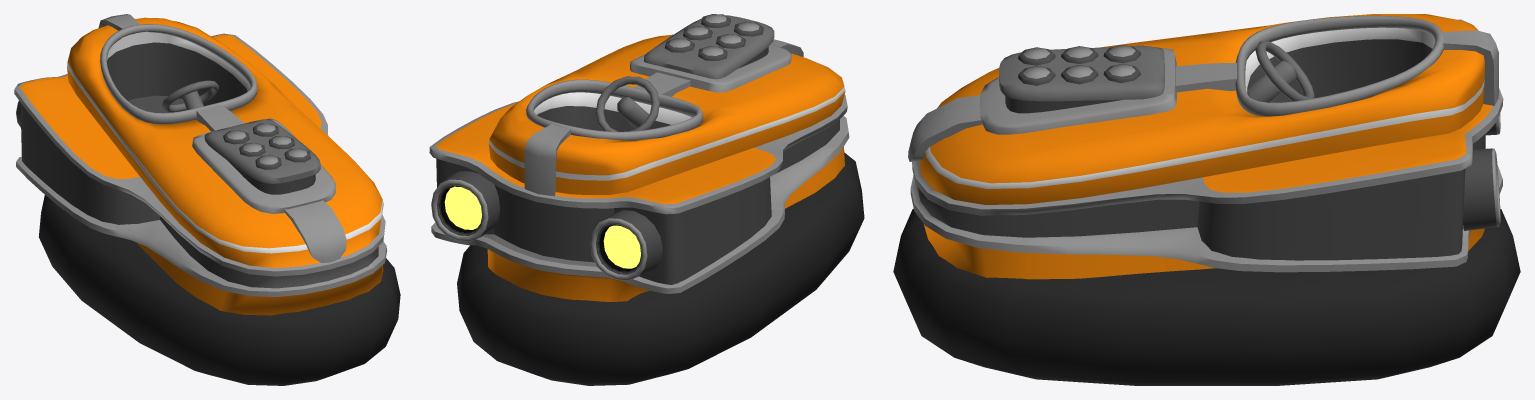
File: mesh_Car_InGame_P.fbx
3 views of the same model, side by side, from view 1: azimuth 30°, elevation 25°; view 2: azimuth 150°, elevation 25°; view 3: azimuth 270°, elevation 25° (orthographic). The views are drawn at different scales.
Visible parts, largest first — view 1: mesh_Car_InGame_P; view 2: mesh_Car_InGame_P; view 3: mesh_Car_InGame_P.
Part boxes in pixels (left/top/right/bottom): mesh_Car_InGame_P: left=14, top=14, right=400, bottom=385; mesh_Car_InGame_P: left=429, top=14, right=864, bottom=385; mesh_Car_InGame_P: left=893, top=14, right=1520, bottom=385.
Bounding box in the file's own units: 1.77 × 1.54 × 2.97.
